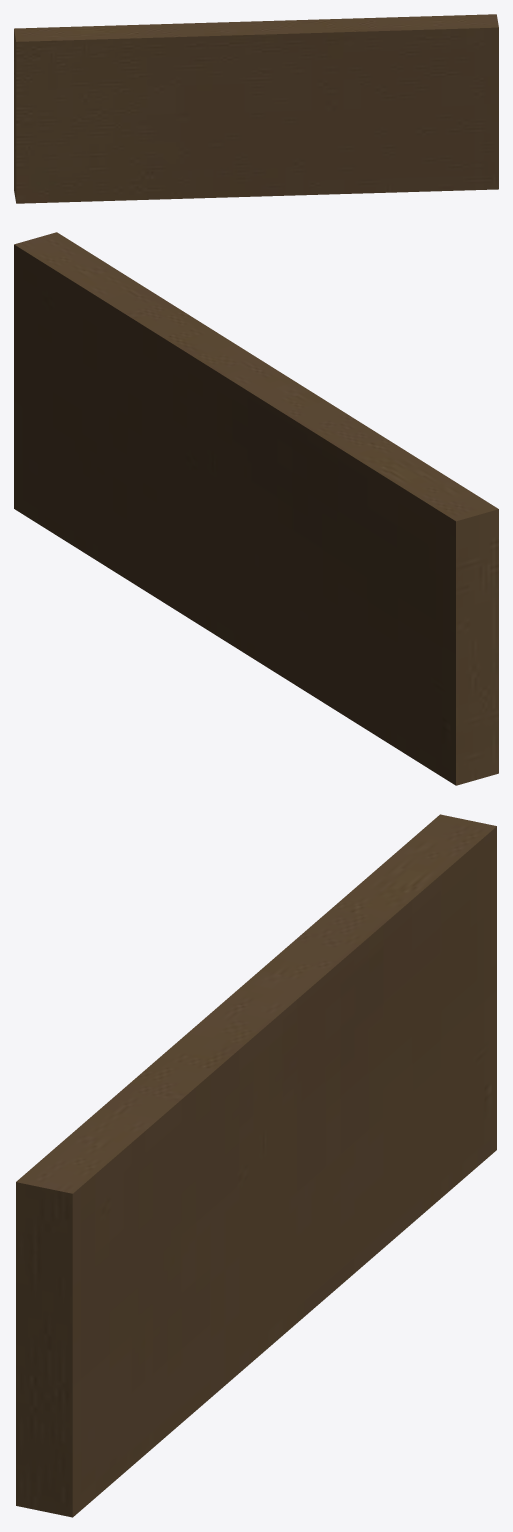
The model's file is backrest__backrest_pad.glb.
3 renders of one model, top to bottom at view 1: azimuth 30°, elevation 25°; view 2: azimuth 150°, elevation 25°; view 3: azimuth 270°, elevation 25°, orthographic. The views are drawn at different scales.
Visible parts, largest first — view 1: geometry_0; view 2: geometry_0; view 3: geometry_0.
Boxes of the visible parts, x1,y1,x2,y2 form: geometry_0: (14, 14, 498, 203); geometry_0: (14, 232, 498, 785); geometry_0: (16, 814, 496, 1517).
Bounding box in the file's own units: 0.7791 × 0.31 × 0.4177.
Materials: 1 (1 with a texture image).
